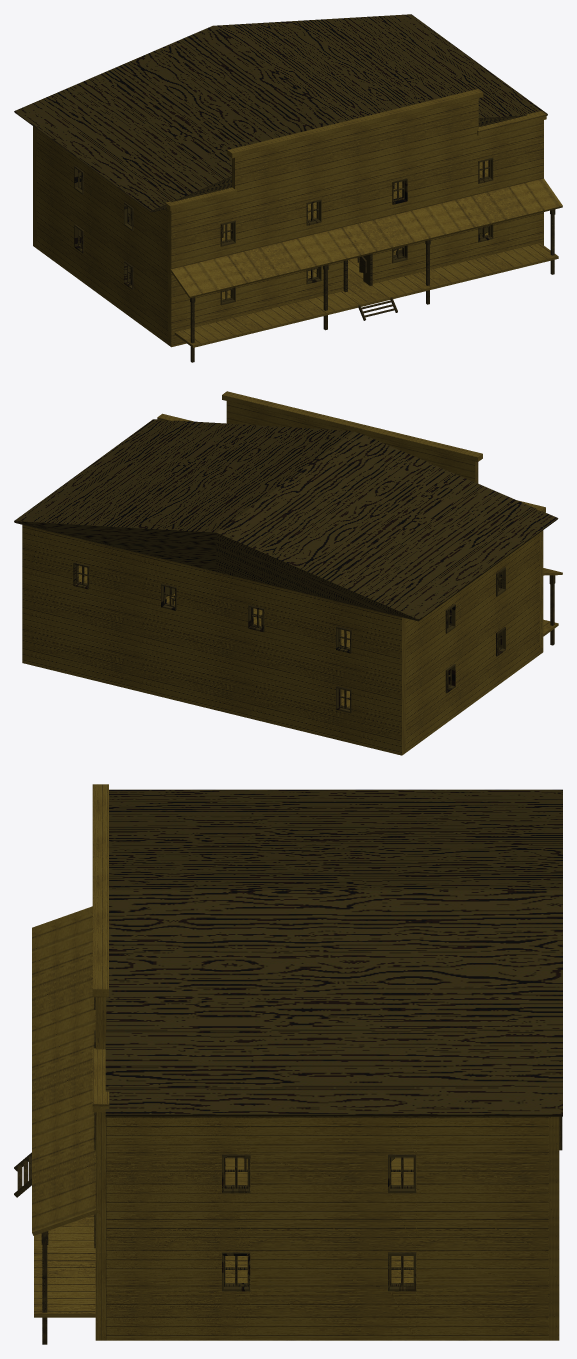
The model's file is Bar.fbx.
The picture shows the model from 3 angles, top to bottom: view 1: azimuth 30°, elevation 25°; view 2: azimuth 150°, elevation 25°; view 3: azimuth 270°, elevation 25°; orthographic projection. The views are drawn at different scales.
Visible parts, largest first — view 1: Cube.002, Cube.007, Cube.019, Cube.006, Windows, Cube.020; view 2: Cube.002, Cube.007, Windows, Cube.006; view 3: Cube.007, Cube.002, Cube.019, Cube.006, Windows, Cube.020.
Boxes of the visible parts, x1=… form: Cube.002: x1=33, y1=89, x2=546, y2=347; Cube.007: x1=14, y1=14, x2=547, y2=212; Cube.019: x1=170, y1=178, x2=562, y2=298; Cube.006: x1=174, y1=160, x2=558, y2=347; Windows: x1=74, y1=157, x2=493, y2=305; Cube.020: x1=190, y1=209, x2=555, y2=362; Cube.002: x1=22, y1=391, x2=545, y2=755; Cube.007: x1=14, y1=419, x2=558, y2=621; Windows: x1=73, y1=562, x2=505, y2=713; Cube.006: x1=78, y1=565, x2=558, y2=707; Cube.007: x1=105, y1=789, x2=562, y2=1116; Cube.002: x1=92, y1=784, x2=559, y2=1340; Cube.019: x1=32, y1=906, x2=98, y2=1235; Cube.006: x1=34, y1=1155, x2=416, y2=1317; Windows: x1=94, y1=997, x2=562, y2=1291; Cube.020: x1=41, y1=1231, x2=48, y2=1344.
Size of the model in its own units: 6947 by 3083 by 4960.
42 materials, 42 textured.
